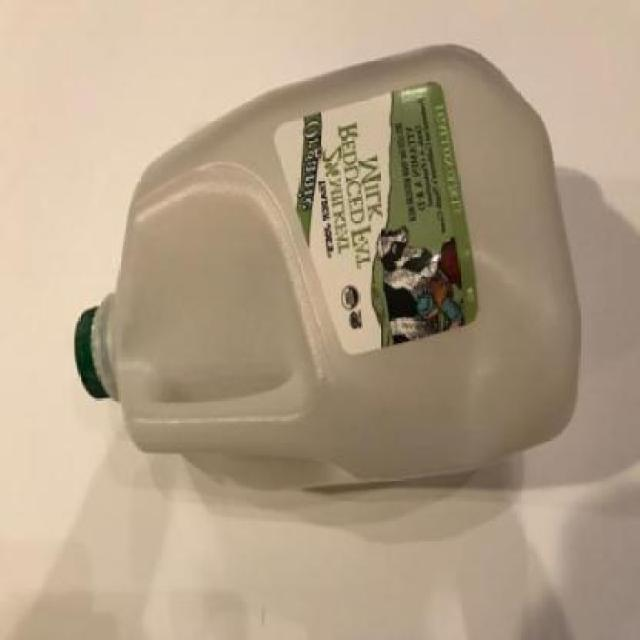PLASTIC: (75, 42, 583, 490), (75, 305, 116, 398)
